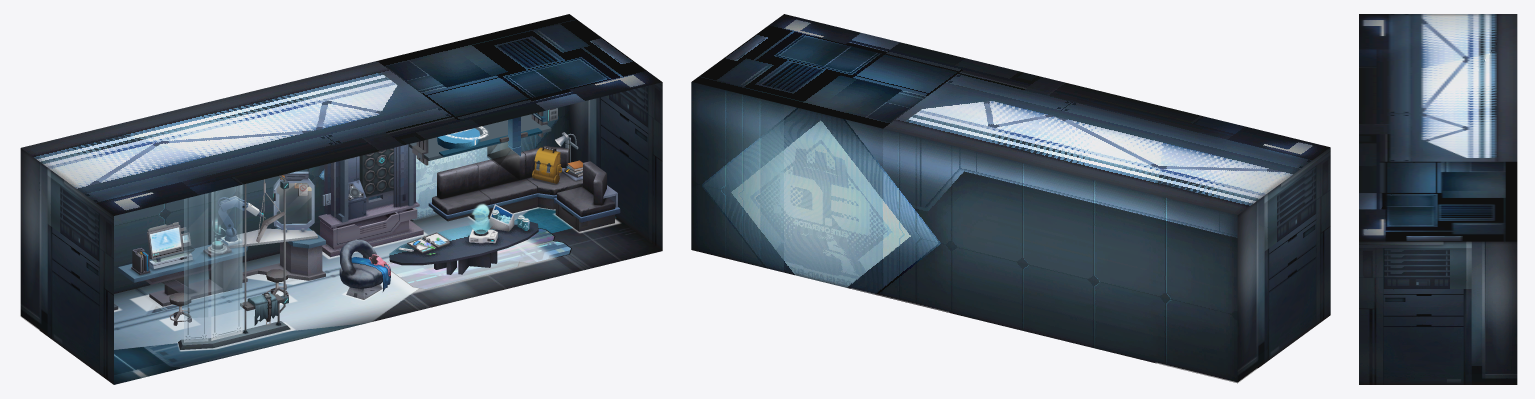
File: eliteLounge.glb
3 renders of one model, left to right at view 1: azimuth 30°, elevation 25°; view 2: azimuth 150°, elevation 25°; view 3: azimuth 270°, elevation 25°, orthographic. The views are drawn at different scales.
Parts seen in each view (by area): view 1: ROOM_room, ROOM_floor, furni_eliteLounge_partitionWall_04, furni_eliteLounge_originiumsCabinet_01, furni_eliteLounge_workbench_01, furni_eliteLounge_couch_01, furni_eliteLounge_docTable_01, furni_eliteLounge_workbench_02, furni_eliteLounge_carpet_01, shadow_01.008, furni_eliteLounge_smallCouch_01, furni_eliteLounge_partitionWall_01 (+11 smaller); view 2: ROOM_room, ROOM_LDoor; view 3: ROOM_room, ROOM_RDoor.
Part boxes in pixels (bbox=[...]): ROOM_room: bbox=[20, 14, 662, 384]; ROOM_floor: bbox=[114, 207, 661, 384]; furni_eliteLounge_partitionWall_04: bbox=[184, 185, 242, 342]; furni_eliteLounge_originiumsCabinet_01: bbox=[318, 144, 423, 257]; furni_eliteLounge_workbench_01: bbox=[118, 228, 325, 306]; furni_eliteLounge_couch_01: bbox=[428, 132, 582, 221]; furni_eliteLounge_docTable_01: bbox=[389, 204, 538, 274]; furni_eliteLounge_workbench_02: bbox=[132, 171, 314, 272]; furni_eliteLounge_carpet_01: bbox=[388, 228, 571, 289]; shadow_01.008: bbox=[386, 238, 556, 294]; furni_eliteLounge_smallCouch_01: bbox=[554, 161, 620, 231]; furni_eliteLounge_partitionWall_01: bbox=[178, 175, 290, 349]; ROOM_room: bbox=[691, 14, 1330, 383]; ROOM_LDoor: bbox=[1297, 249, 1316, 338]; ROOM_room: bbox=[1359, 14, 1517, 384]; ROOM_RDoor: bbox=[1382, 319, 1414, 384].
Bounding box in the file's own units: 7.54 × 2.2 × 2.25.
7 materials, 7 textured.
